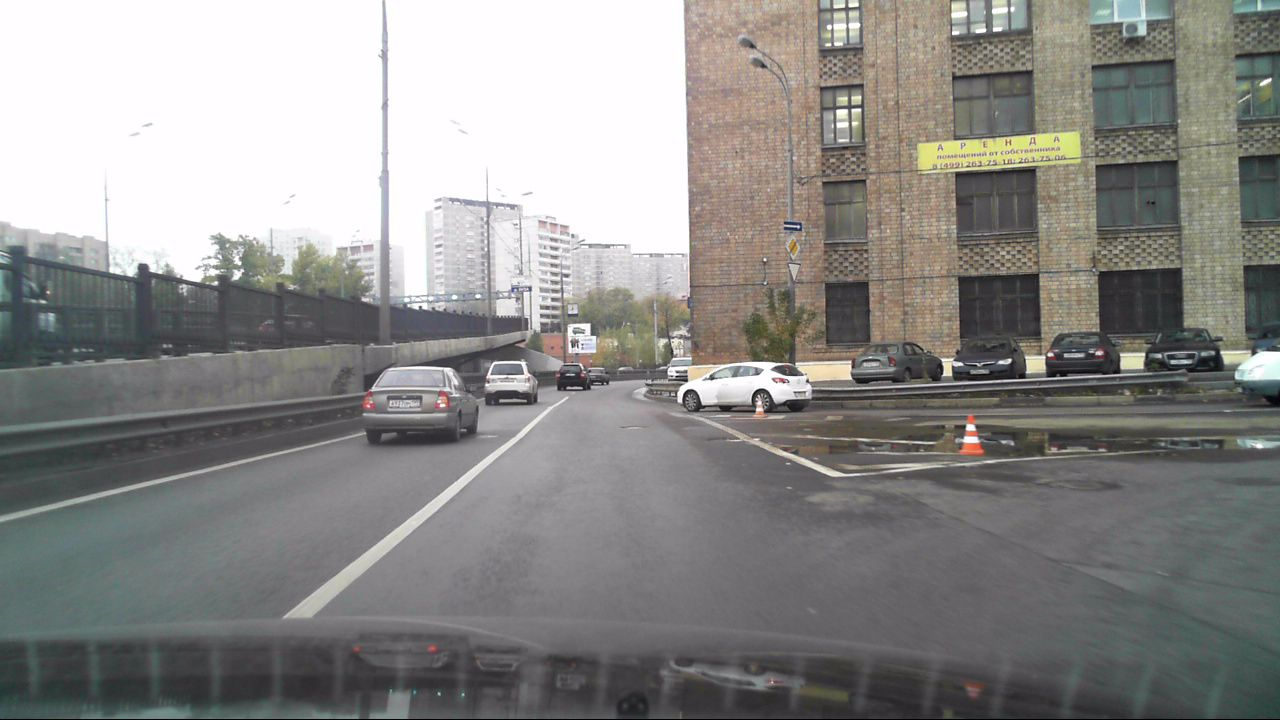main road: (785, 237, 805, 259)
